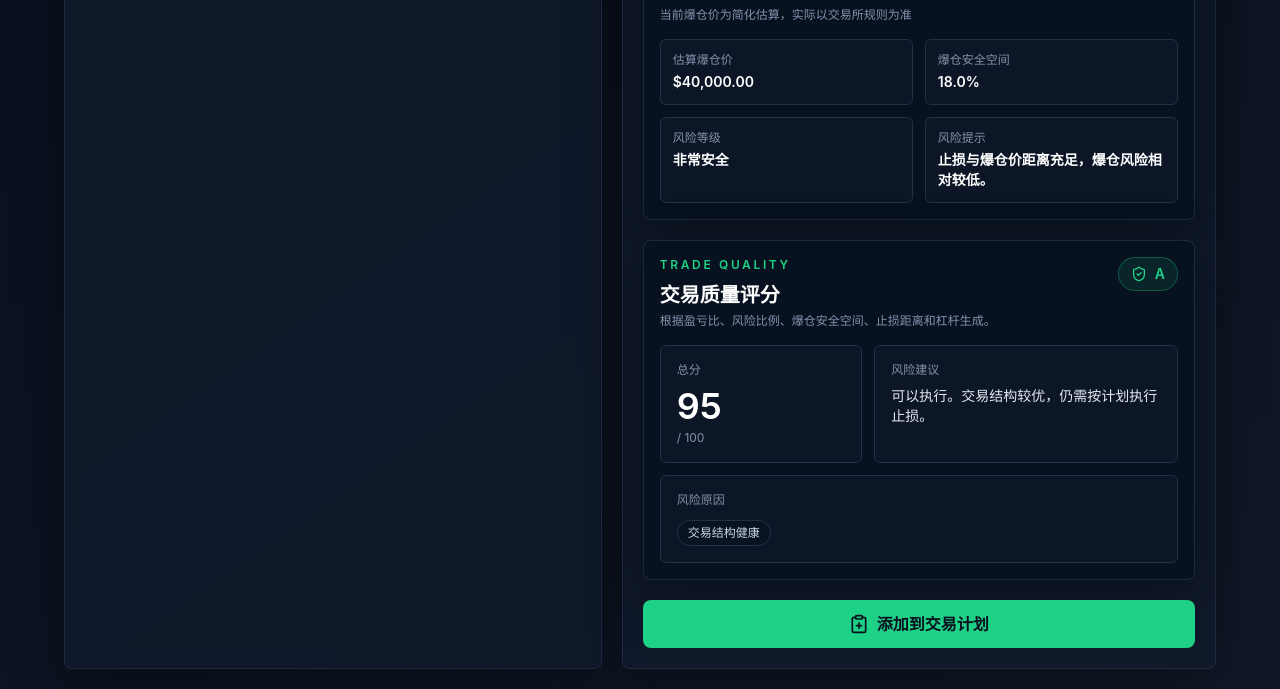
Scenario: PositionCalculator › adds the calculated setup to trade plans
The image size is (1280, 689).
(page scrolled)
What coordinates should you click on to do the following:
click the button "添加到交易计划"
I would click on:
 (919, 624)
Its box is [643,600,1195,648].
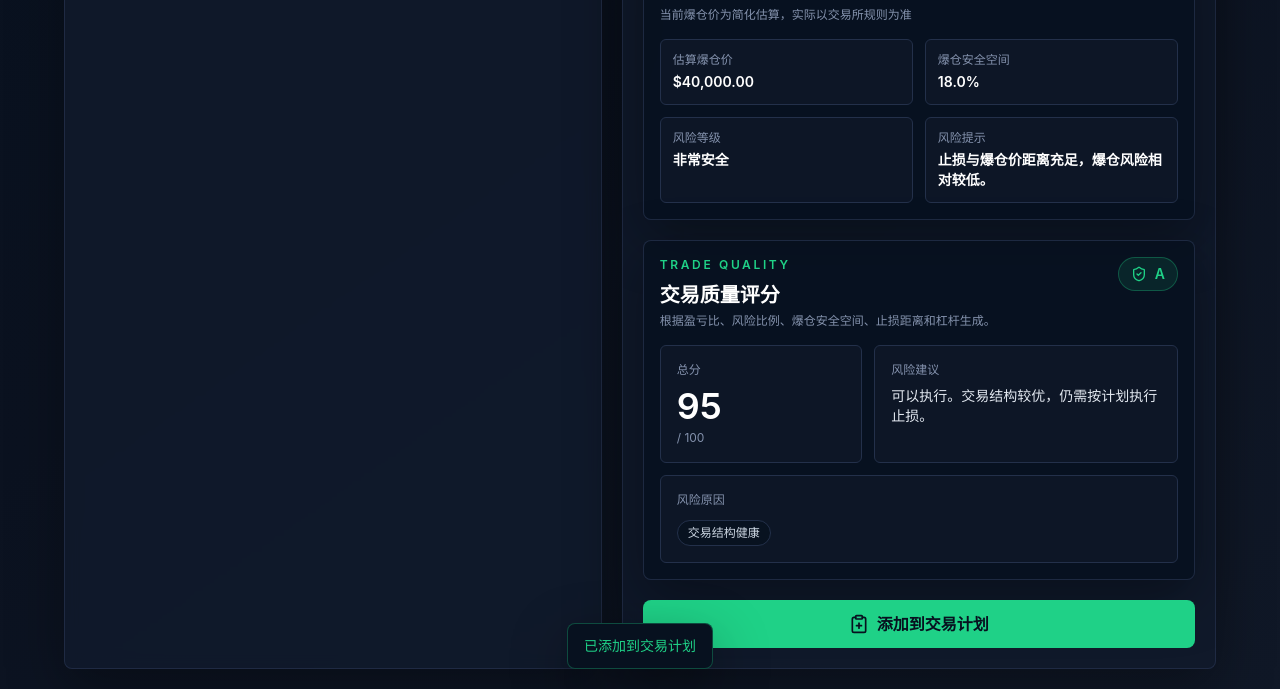
Expected: the text "止损与爆仓价距离充足，爆仓风险相对较低。" is shown, [938,150,1165,190]
Expected: the text "已添加到交易计划" is shown, [567,623,713,669]
